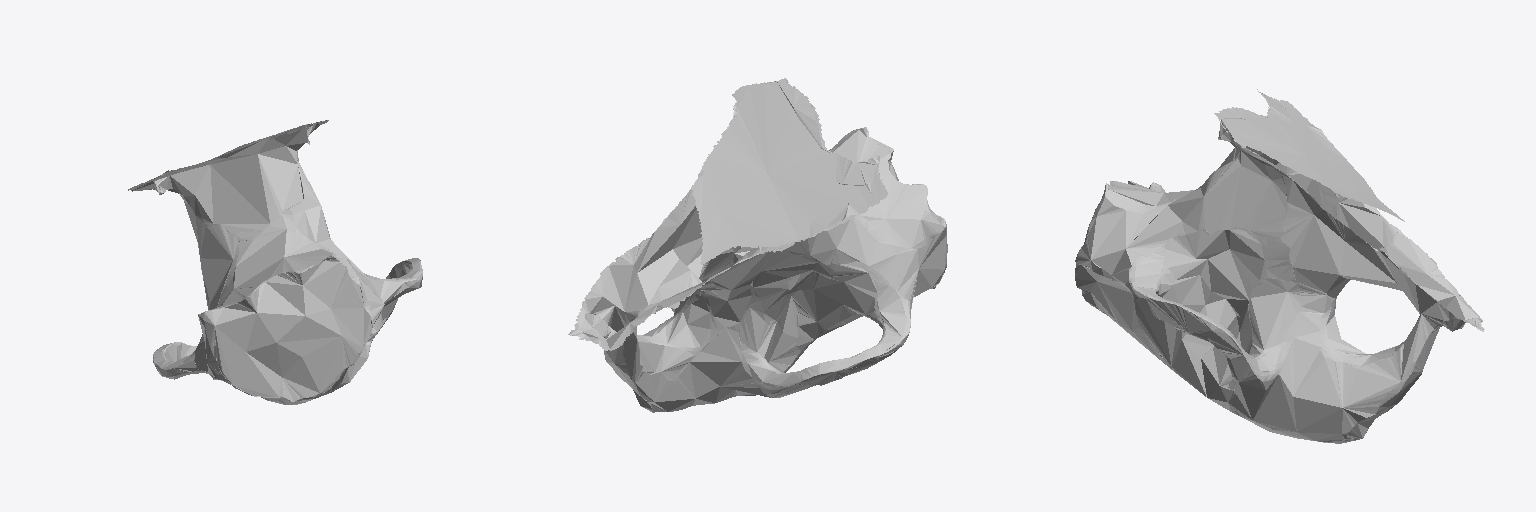
The model's file is skull.obj.
The picture shows the model from 3 angles: view 1: azimuth 30°, elevation 25°; view 2: azimuth 150°, elevation 25°; view 3: azimuth 270°, elevation 25°; orthographic projection.
Size of the model in its own units: 10.78 by 12.56 by 15.48.